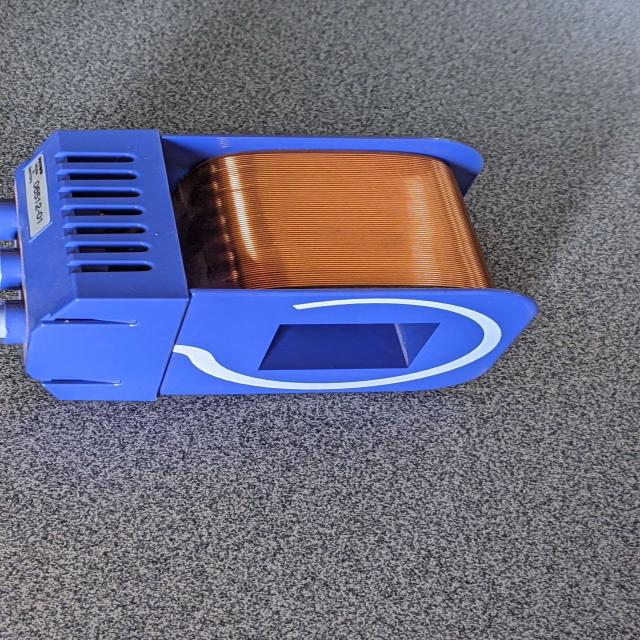Solenoid: (8, 122, 558, 406)
